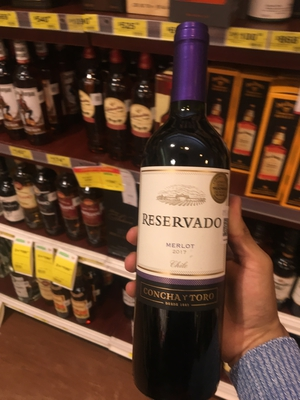reservado merlot: (122, 27, 237, 387)
